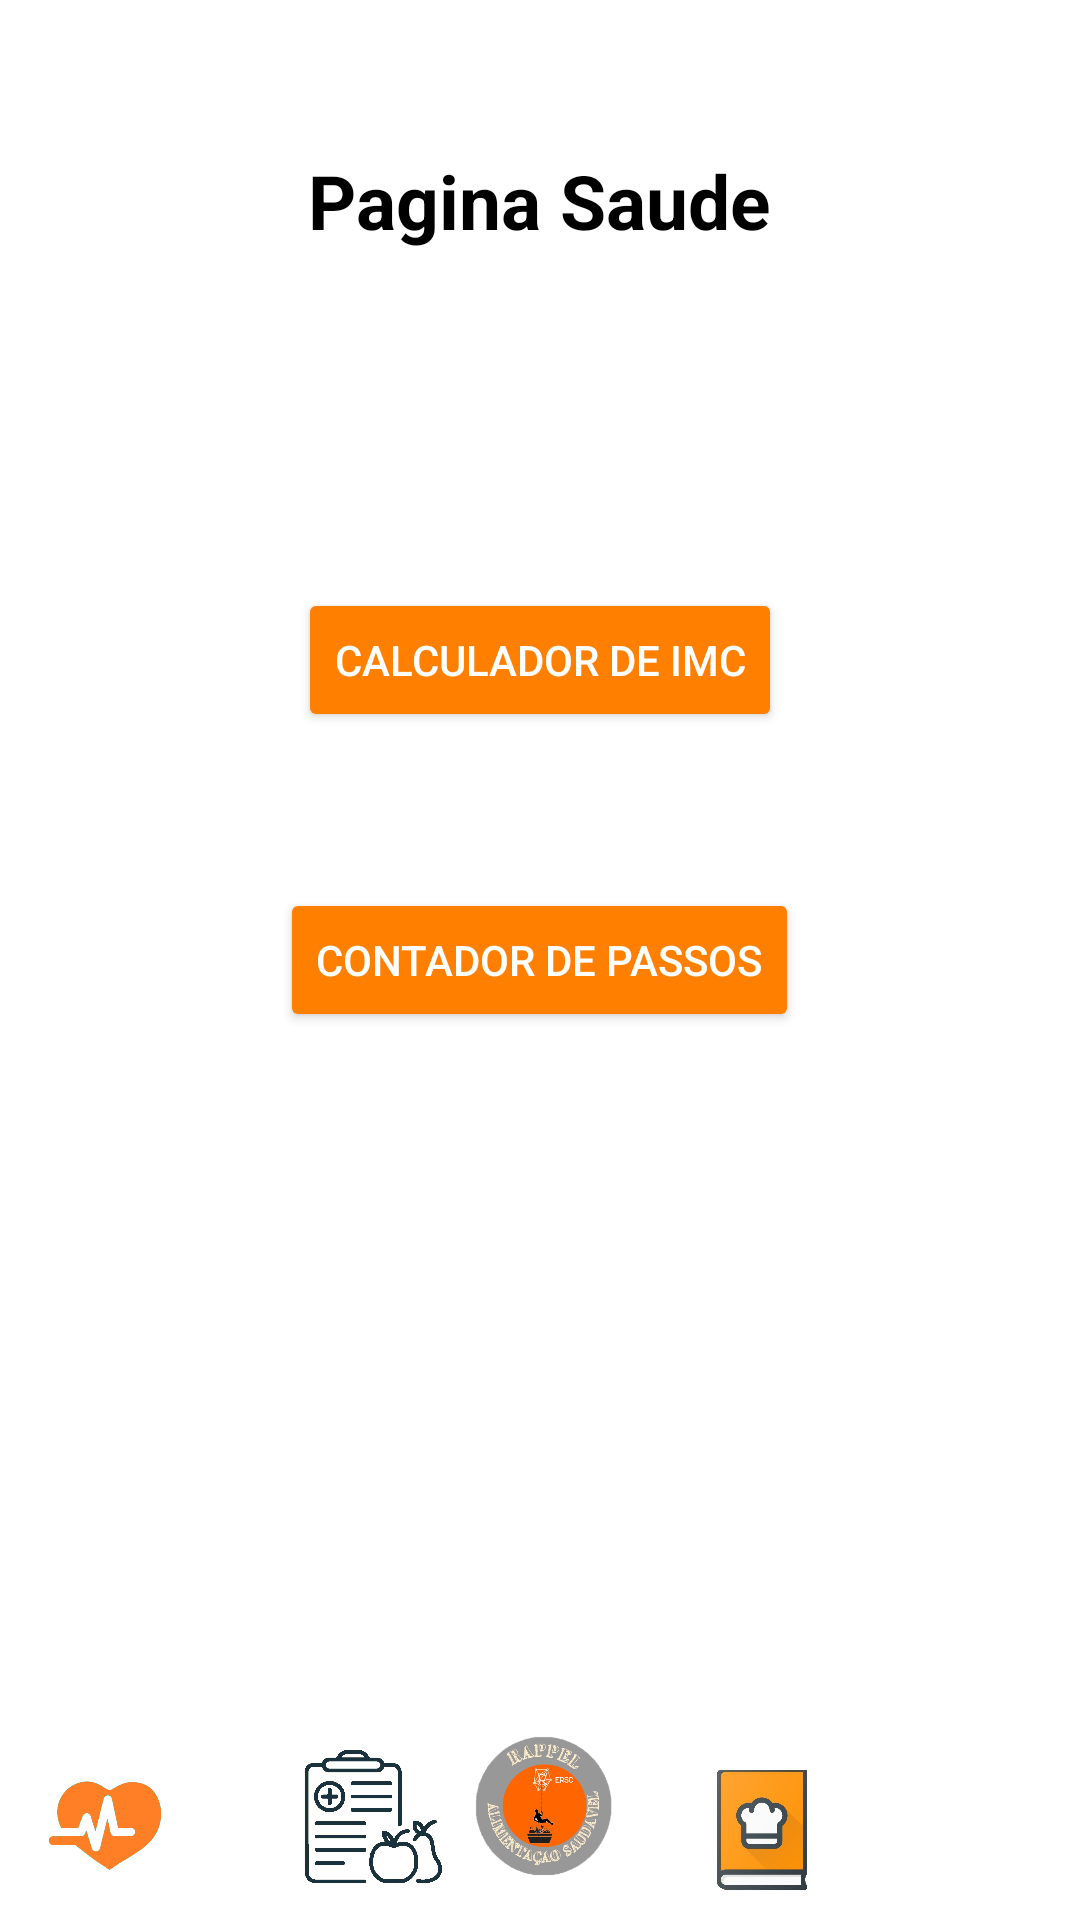

Where icons sit on this 1080px×1920px app screen, as region(x1, y1, x2, y2):
plano: region(304, 1750, 442, 1883)
